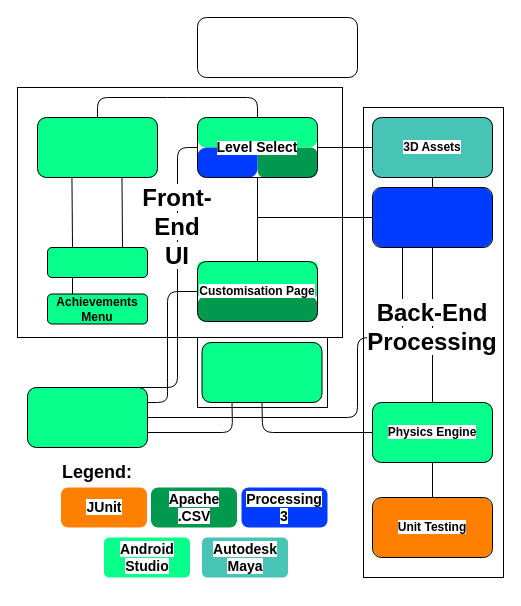
Some shapes in this 521 by 606 pixel diagram are drawn without their labels. Here are the shapes that lost their labels. From the top down, the centre of each, then its label:
At point 277,47: "Architecture".
At point 97,147: "Main Menu".
At point 432,217: "Graphics Engine".
At point 97,262: "Settings Menu".
At point 261,372: "User Controls".
At point 87,417: "APK Build Testing".
